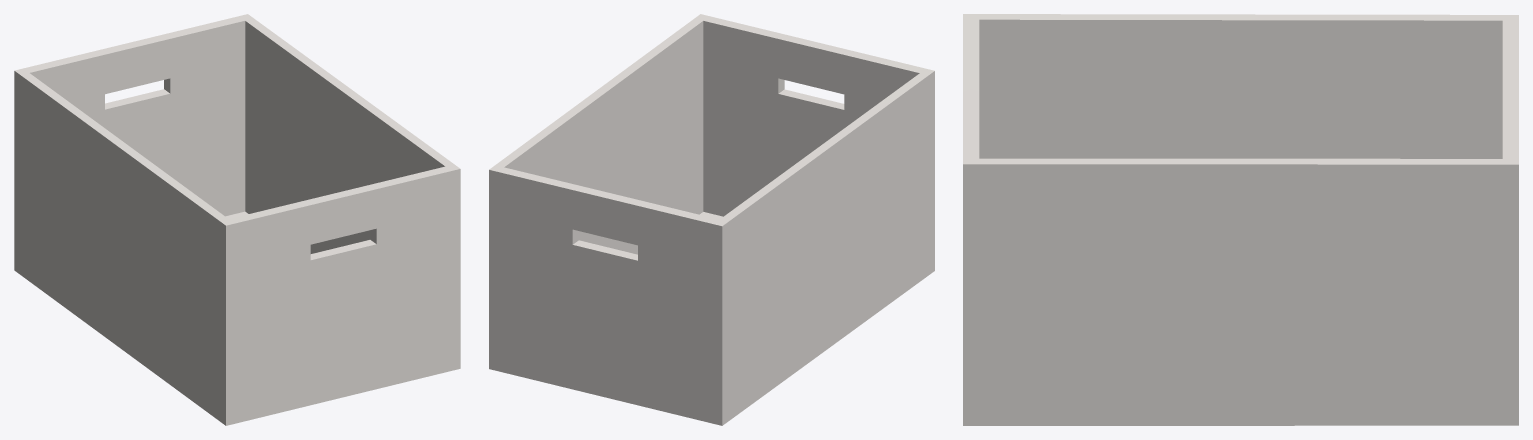
The model's file is warehouse_027.glb.
The picture shows the model from 3 angles, left to right: view 1: azimuth 30°, elevation 25°; view 2: azimuth 150°, elevation 25°; view 3: azimuth 270°, elevation 25°; orthographic projection. The views are drawn at different scales.
Visible parts, largest first — view 1: warehouse_027; view 2: warehouse_027; view 3: warehouse_027.
Part boxes in pixels (x1=…): warehouse_027: x1=14, y1=14, x2=460, y2=425; warehouse_027: x1=489, y1=14, x2=934, y2=425; warehouse_027: x1=963, y1=14, x2=1518, y2=425.
Size of the model in its own units: 0.419 by 0.3418 by 0.6566.
Materials: 1 (1 with a texture image).
